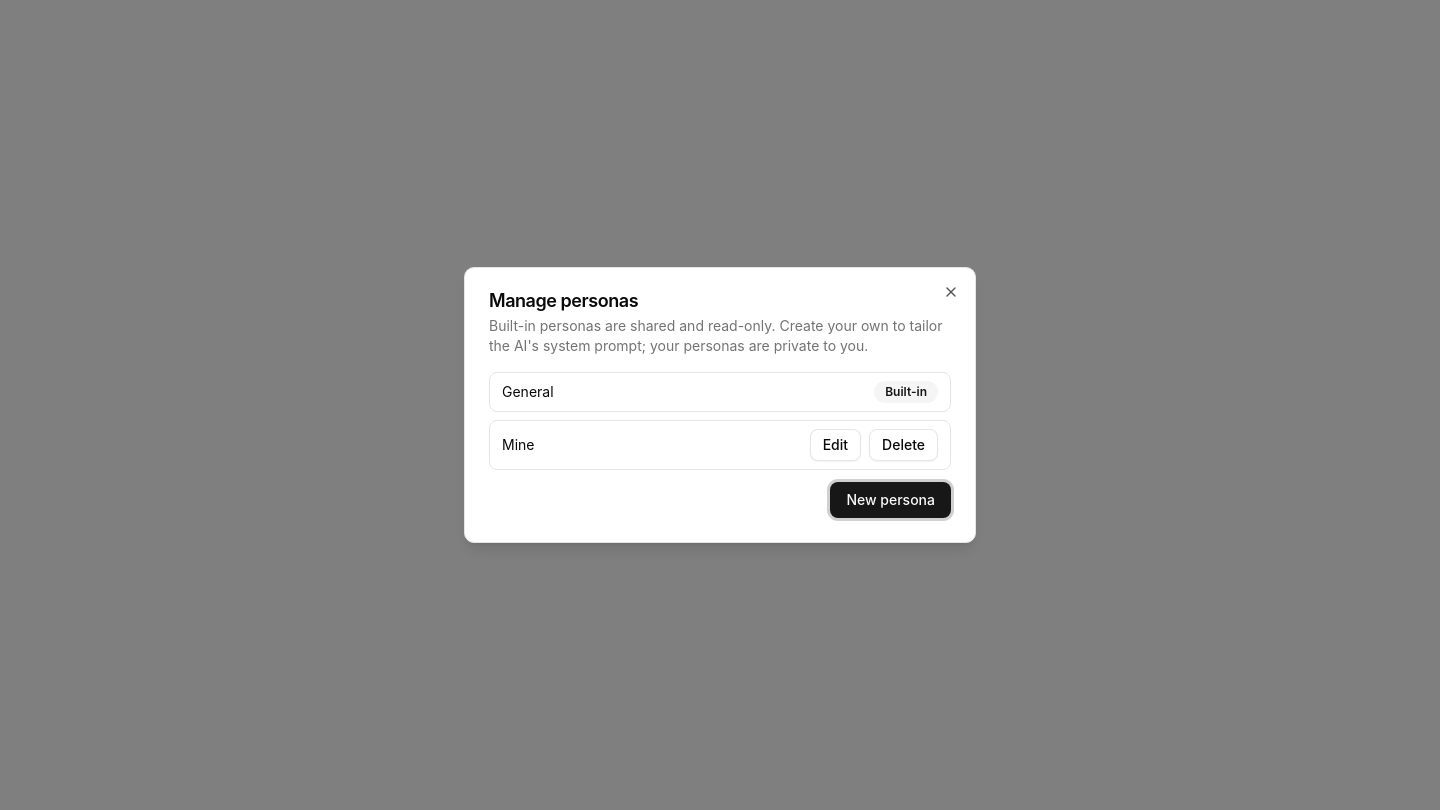
ManagePersonasPanel › shows an inline error when create hits a name conflict (409)
The width and height of the screenshot is (1440, 810).
Expected: the text "General" is shown, 502,382 -> 554,402
Click the button "New persona" at (891, 500), box 830,482 -> 951,518
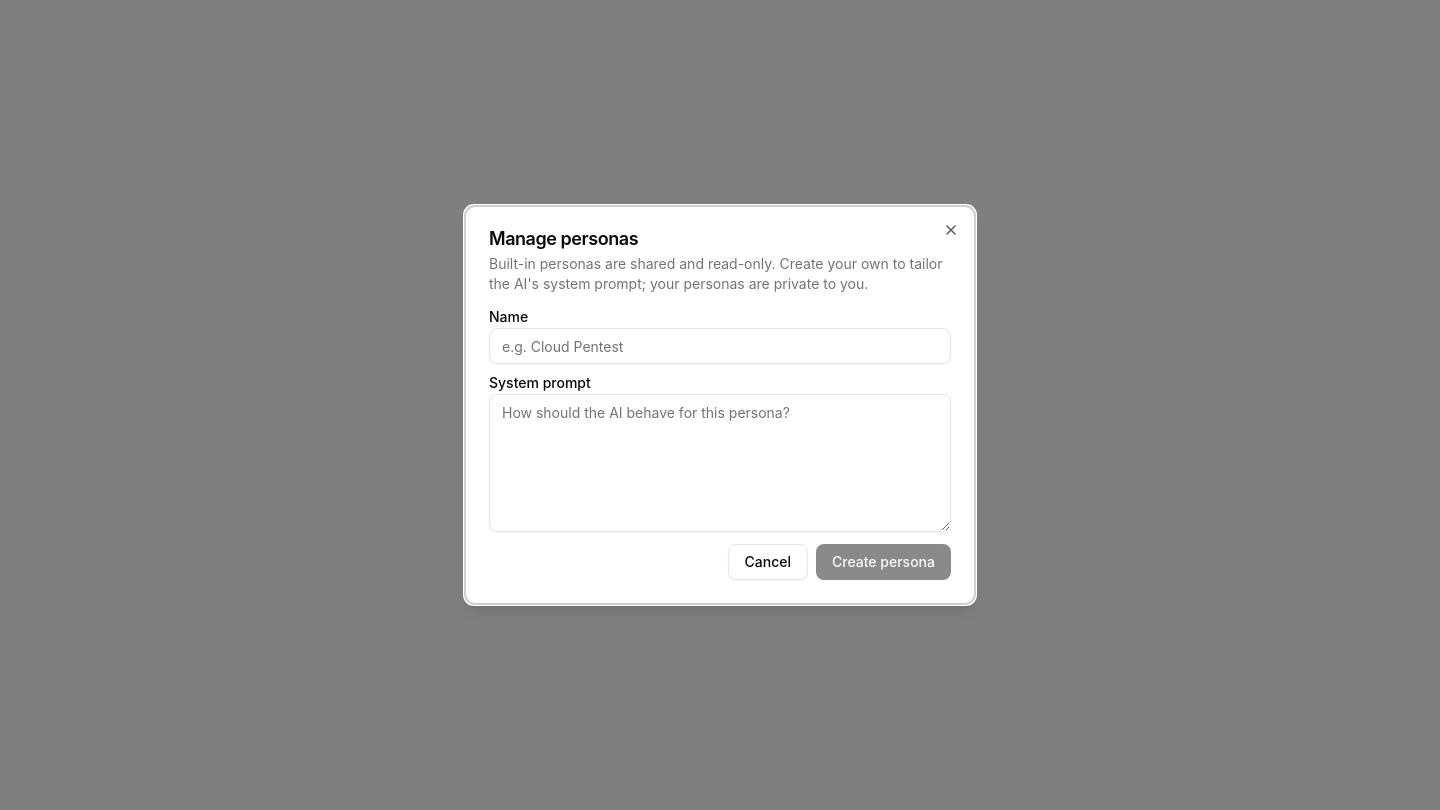
Type "Mine" into the field labelled "Name" at (720, 346), box 489,328 -> 951,364
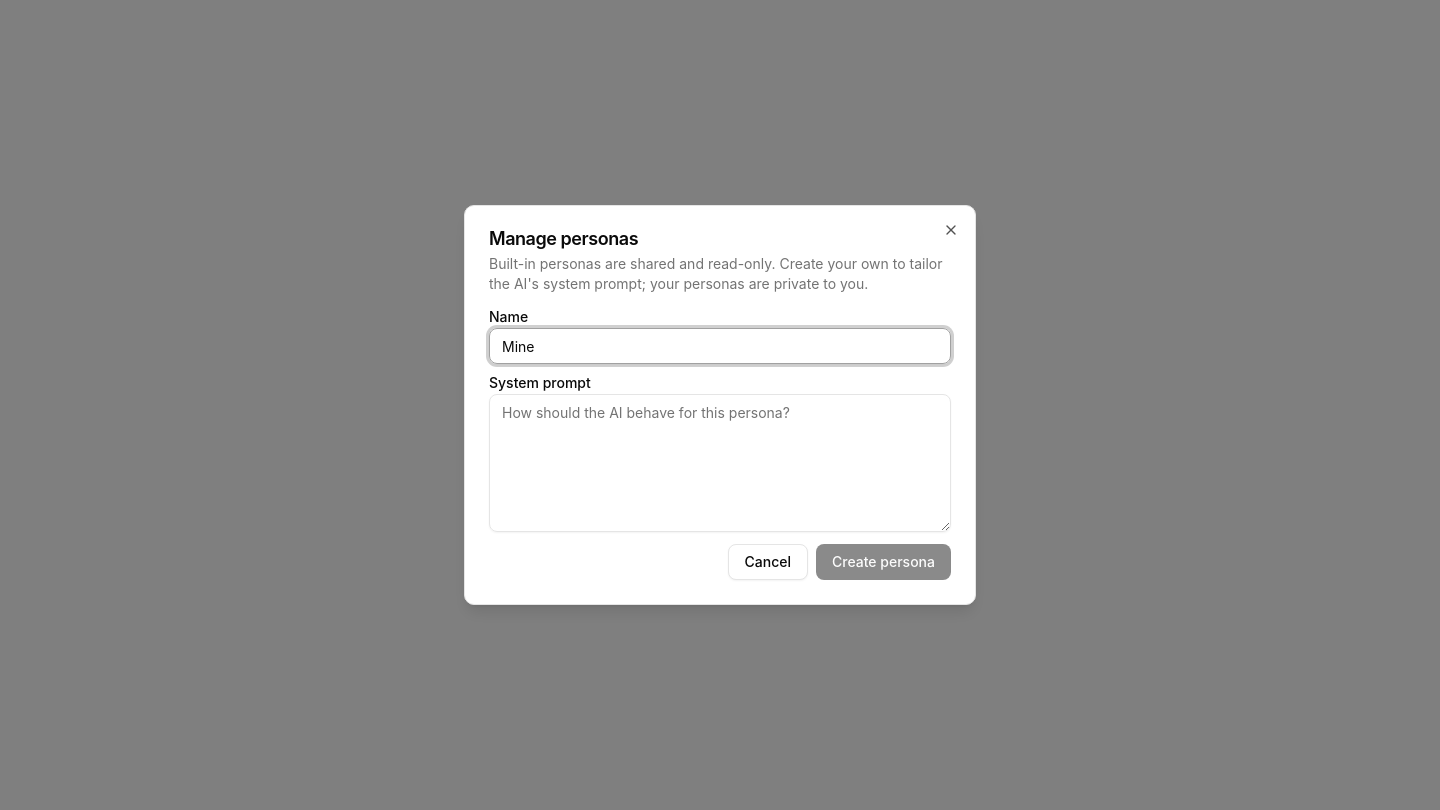
Type "dup" into the text box labelled "System prompt" at (720, 463), box 489,394 -> 951,532
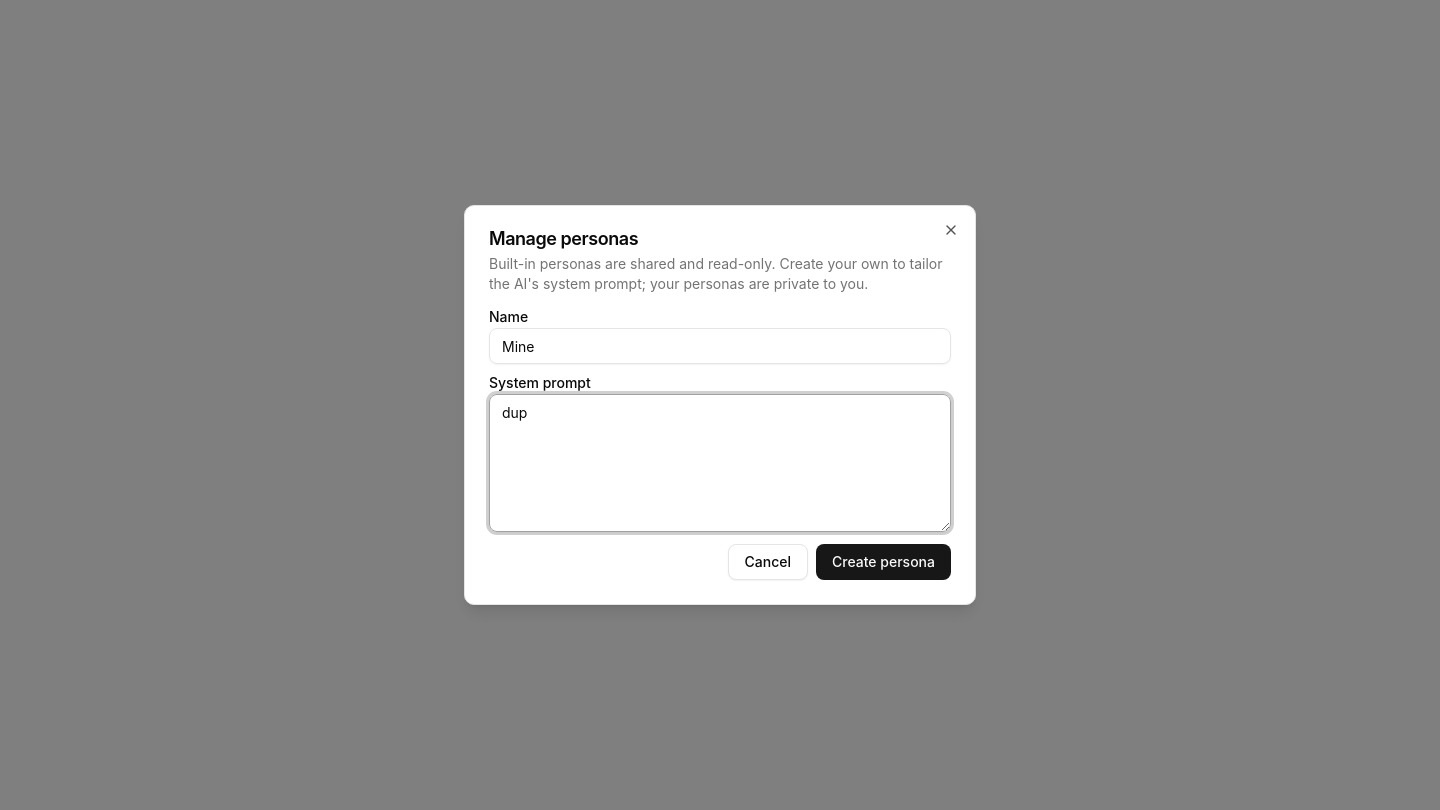
Click the button "Create persona" at (884, 562), box 816,544 -> 951,580
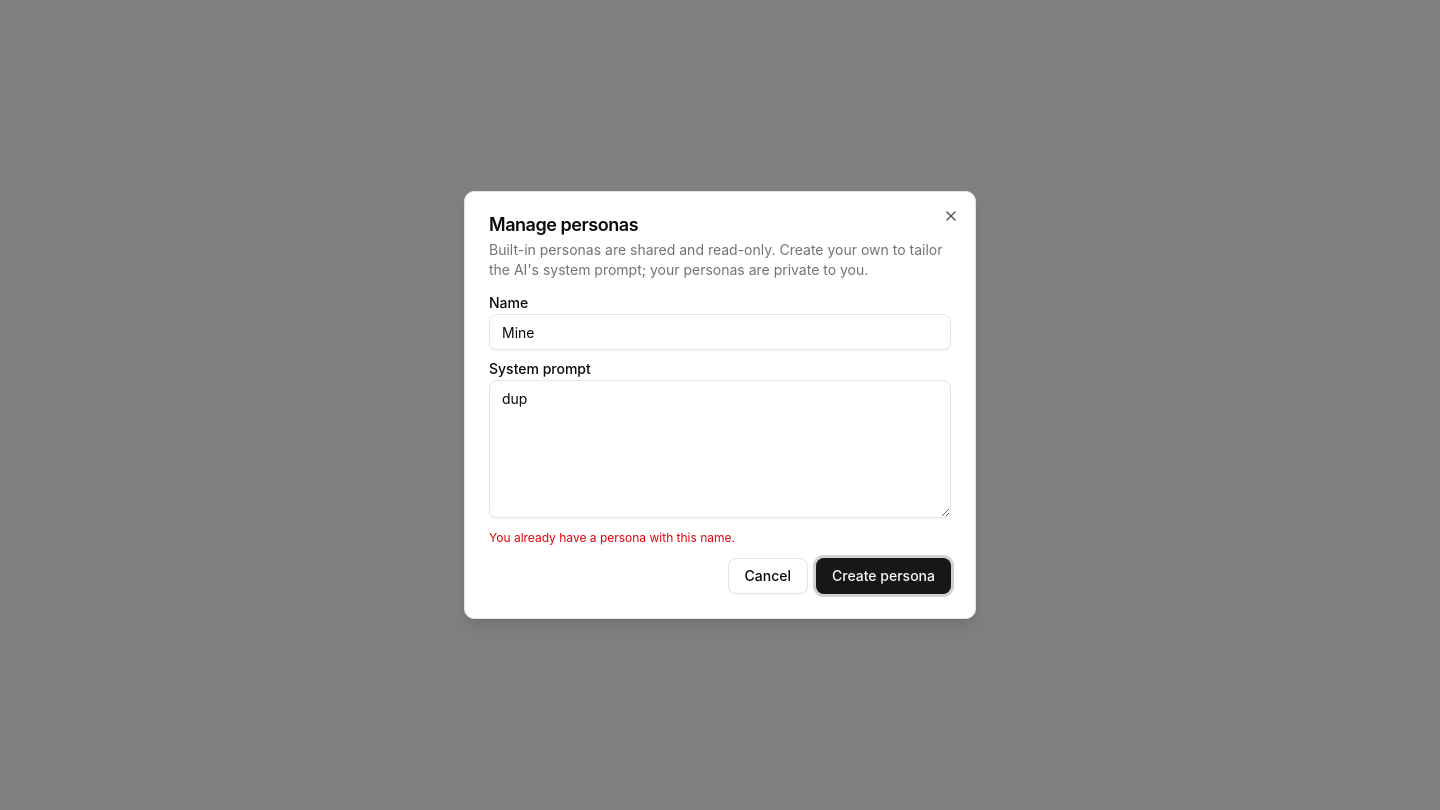
Now the message shows "already have a persona", box 489,530 -> 735,545
